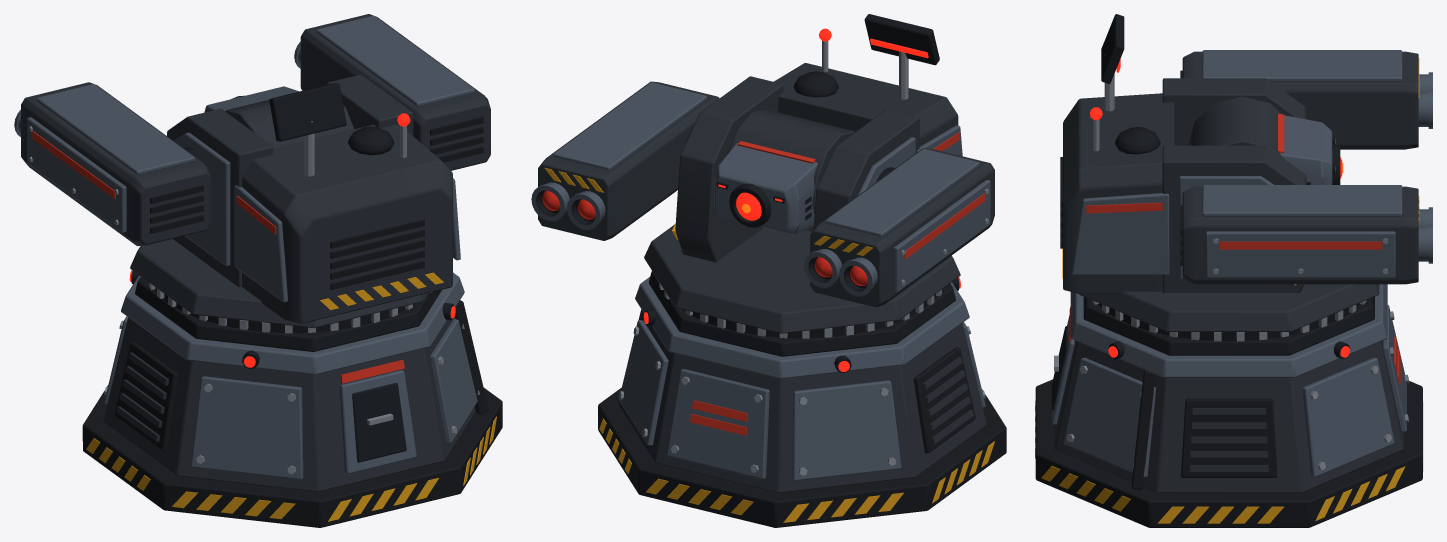
Rendered from turret.glb.
The picture shows the model from 3 angles, left to right: view 1: azimuth 30°, elevation 25°; view 2: azimuth 150°, elevation 25°; view 3: azimuth 270°, elevation 25°; orthographic projection. The views are drawn at different scales.
Parts seen in each view (by area): view 1: Turret_Base, Turret_Yaw, Turret_Pitch; view 2: Turret_Base, Turret_Pitch, Turret_Yaw, Turret_Sensor; view 3: Turret_Base, Turret_Pitch, Turret_Yaw.
Boxes of the visible parts, x1,y1,x2,y2 form: Turret_Base: [82, 270, 502, 527]; Turret_Yaw: [130, 74, 460, 333]; Turret_Pitch: [14, 14, 490, 246]; Turret_Base: [598, 271, 1006, 527]; Turret_Pitch: [531, 81, 994, 307]; Turret_Yaw: [644, 14, 962, 338]; Turret_Sensor: [736, 192, 761, 220]; Turret_Base: [1035, 284, 1423, 527]; Turret_Pitch: [1180, 50, 1432, 284]; Turret_Yaw: [1060, 14, 1379, 341].
Size of the model in its own units: 2.52 by 2.63 by 2.39.
